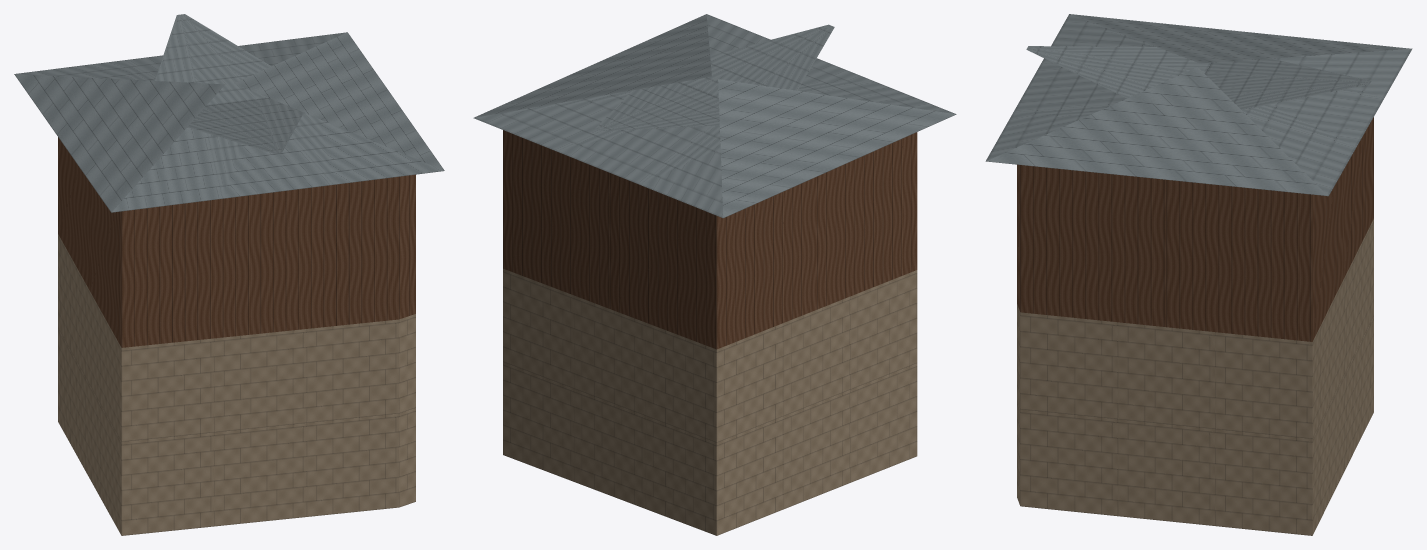
The model's file is bld_c32_47_240.gltf.
The picture shows the model from 3 angles, left to right: view 1: azimuth 30°, elevation 25°; view 2: azimuth 150°, elevation 25°; view 3: azimuth 270°, elevation 25°; orthographic projection. The views are drawn at different scales.
Visible parts, largest first — view 1: bld_c32_47_240; view 2: bld_c32_47_240; view 3: bld_c32_47_240.
Part boxes in pixels (x1=…): bld_c32_47_240: x1=14, y1=14, x2=444, y2=535; bld_c32_47_240: x1=473, y1=14, x2=956, y2=535; bld_c32_47_240: x1=985, y1=14, x2=1412, y2=535.
Size of the model in its own units: 9.8 by 9.8 by 9.71.
3 materials, 3 textured.
